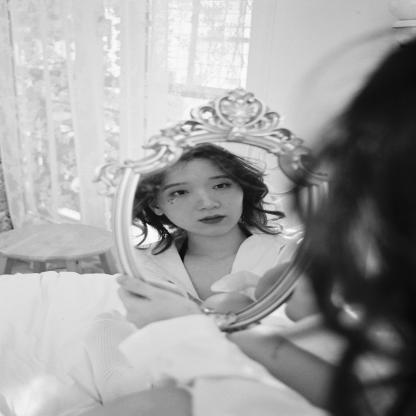Eye: (169, 188, 190, 197), (212, 182, 232, 190)
Mouth: (198, 214, 226, 224)
Nose: (197, 192, 220, 210)
